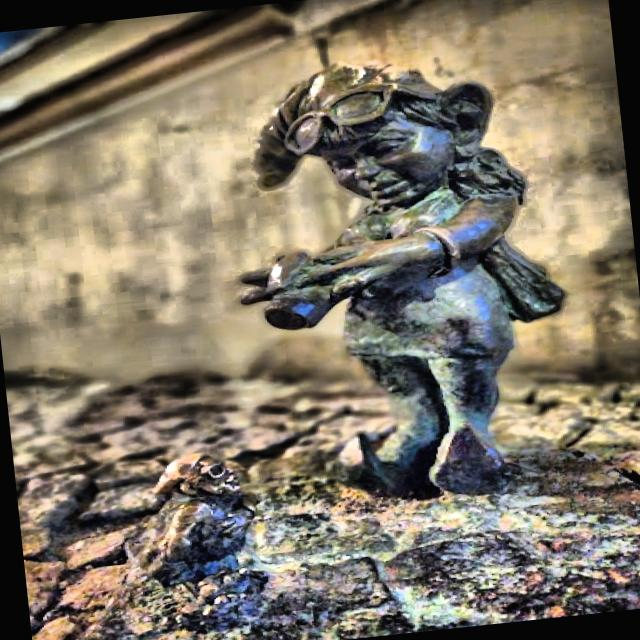Troszka i Adoratorek: (100, 66, 640, 640)
